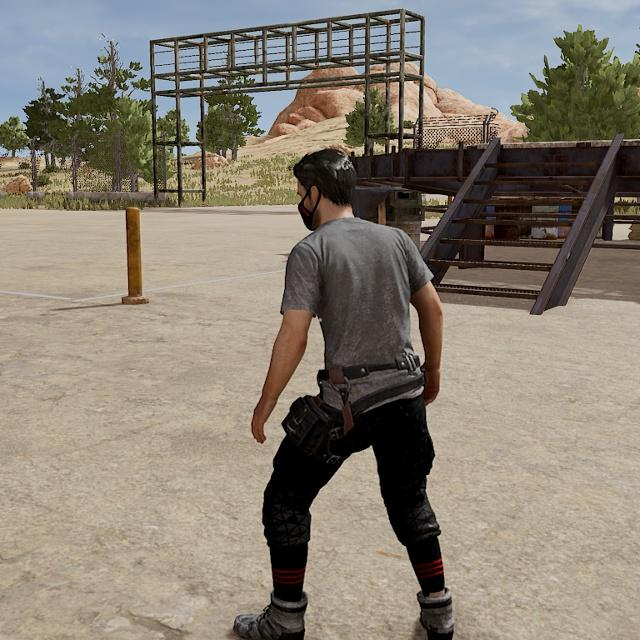head: (286, 144, 362, 230)
people: (231, 145, 457, 640)
